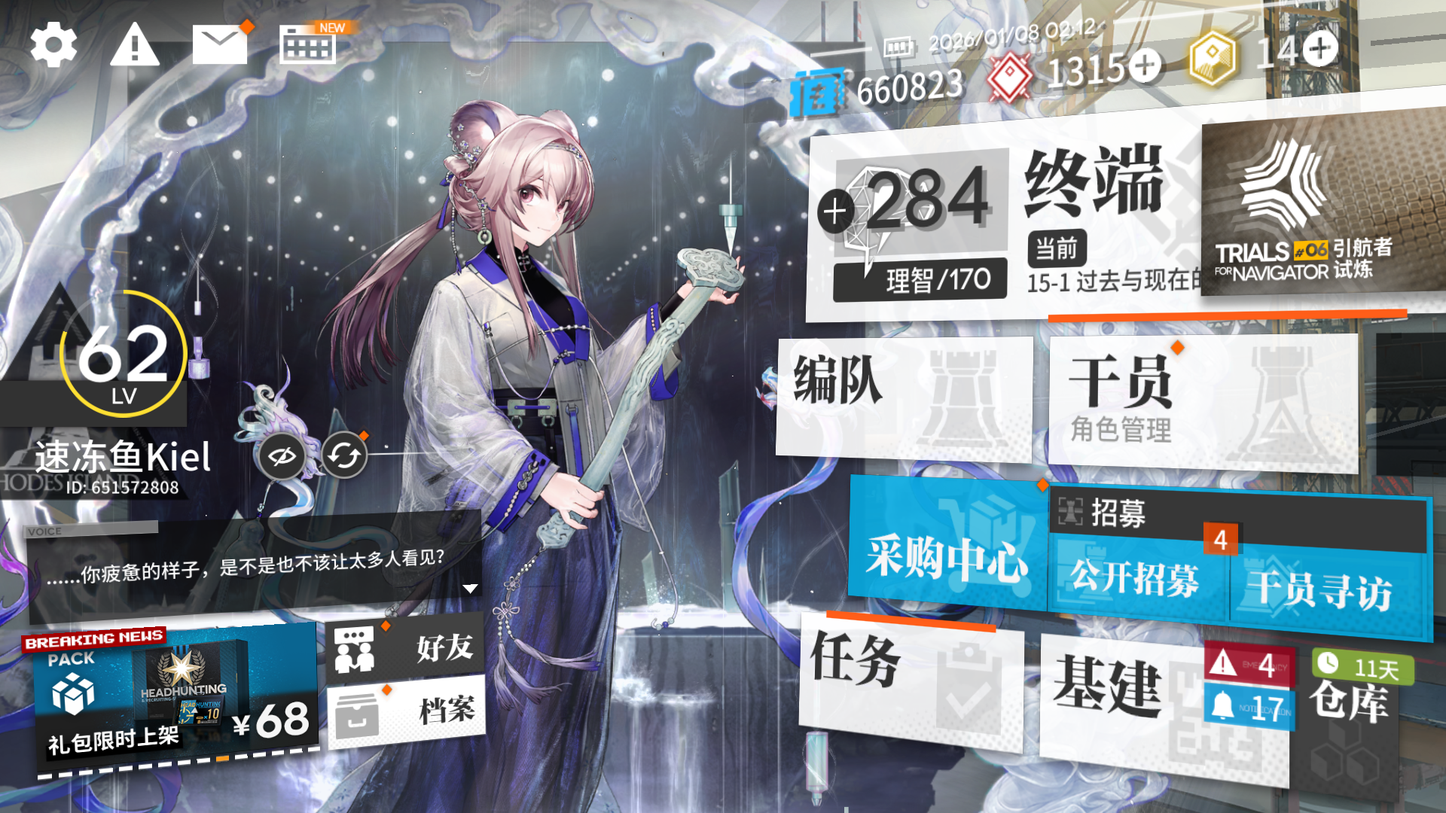home_button: (1002, 123, 1196, 234)
